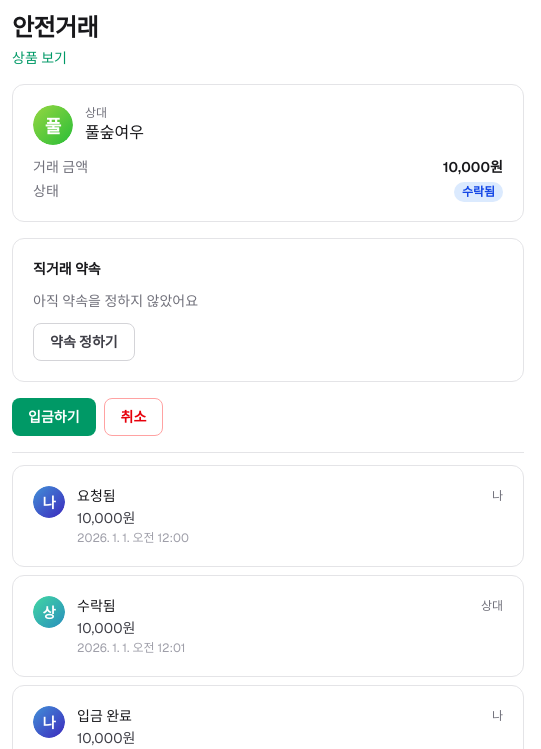
Test: EscrowRoom — meetup (직거래 약속) › maps an invalid meetup submission to the meetup-specific message, not the amount one
The image size is (541, 749).
Click the button "약속 정하기" at (84, 342), box [33,323,135,361]
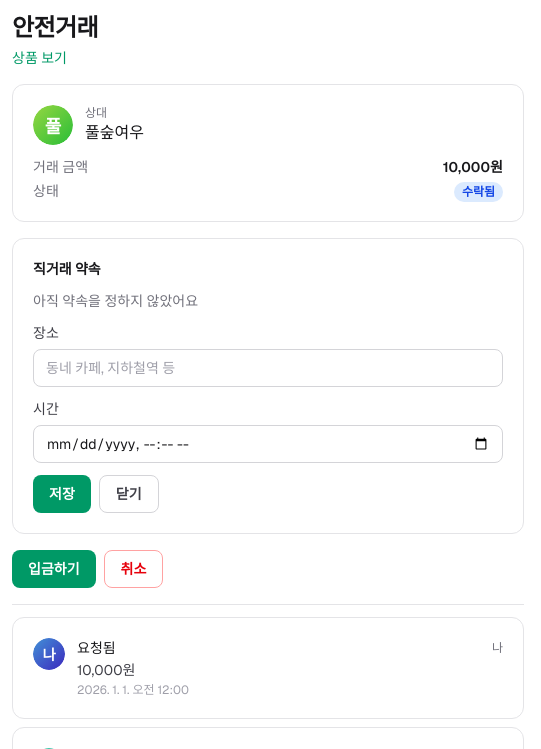
Type "장소" into the field labelled "장소" at (268, 368), box [33,349,503,387]
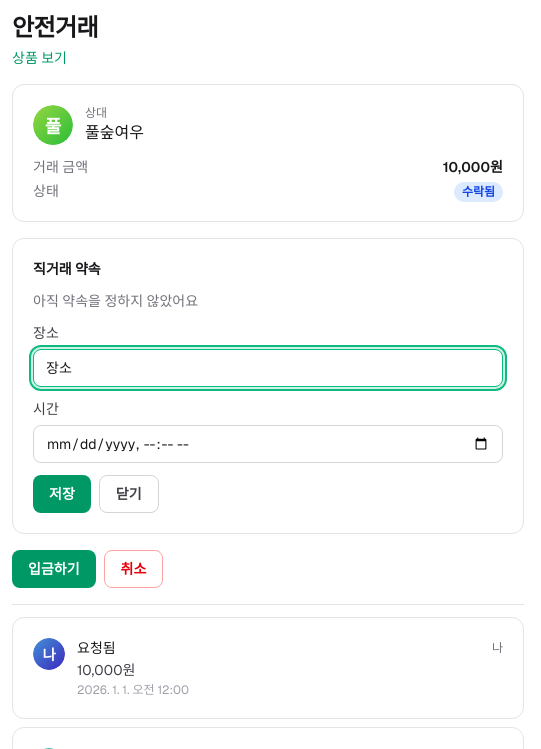
Type "2026-08-01T10:00" into the field labelled "시간" at (268, 444), box [33,425,503,463]
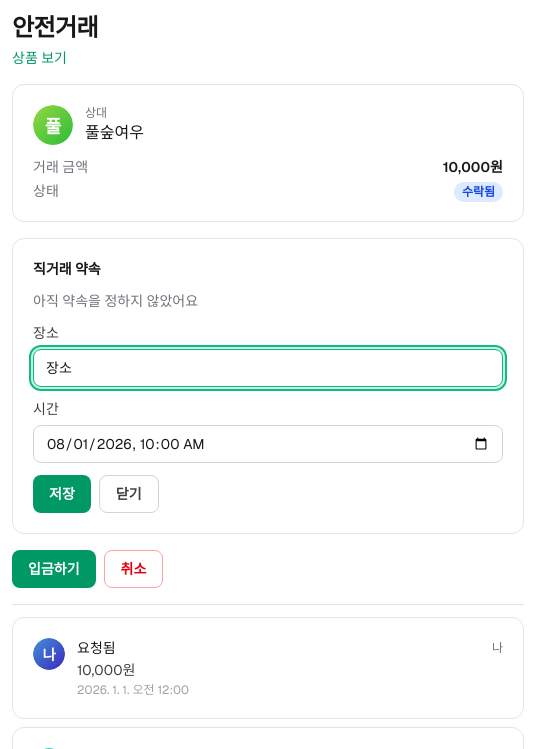
Click the button "저장" at (62, 494), box [33,475,91,513]
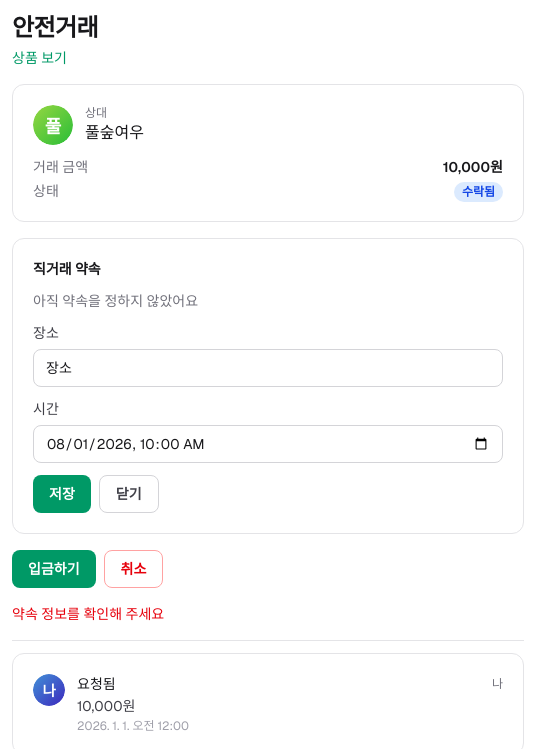
Expected: the message reads "약속 정보를 확인해 주세요", [12,605,164,623]
